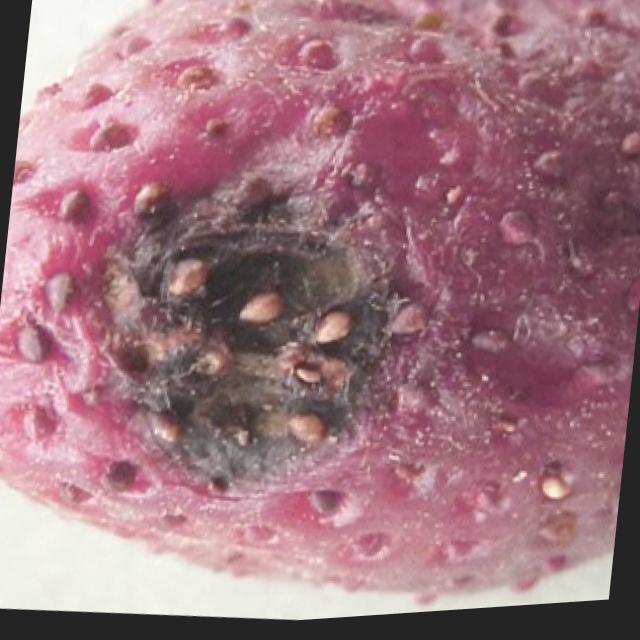Anthracnose Fruit Rot: (93, 162, 436, 512)
